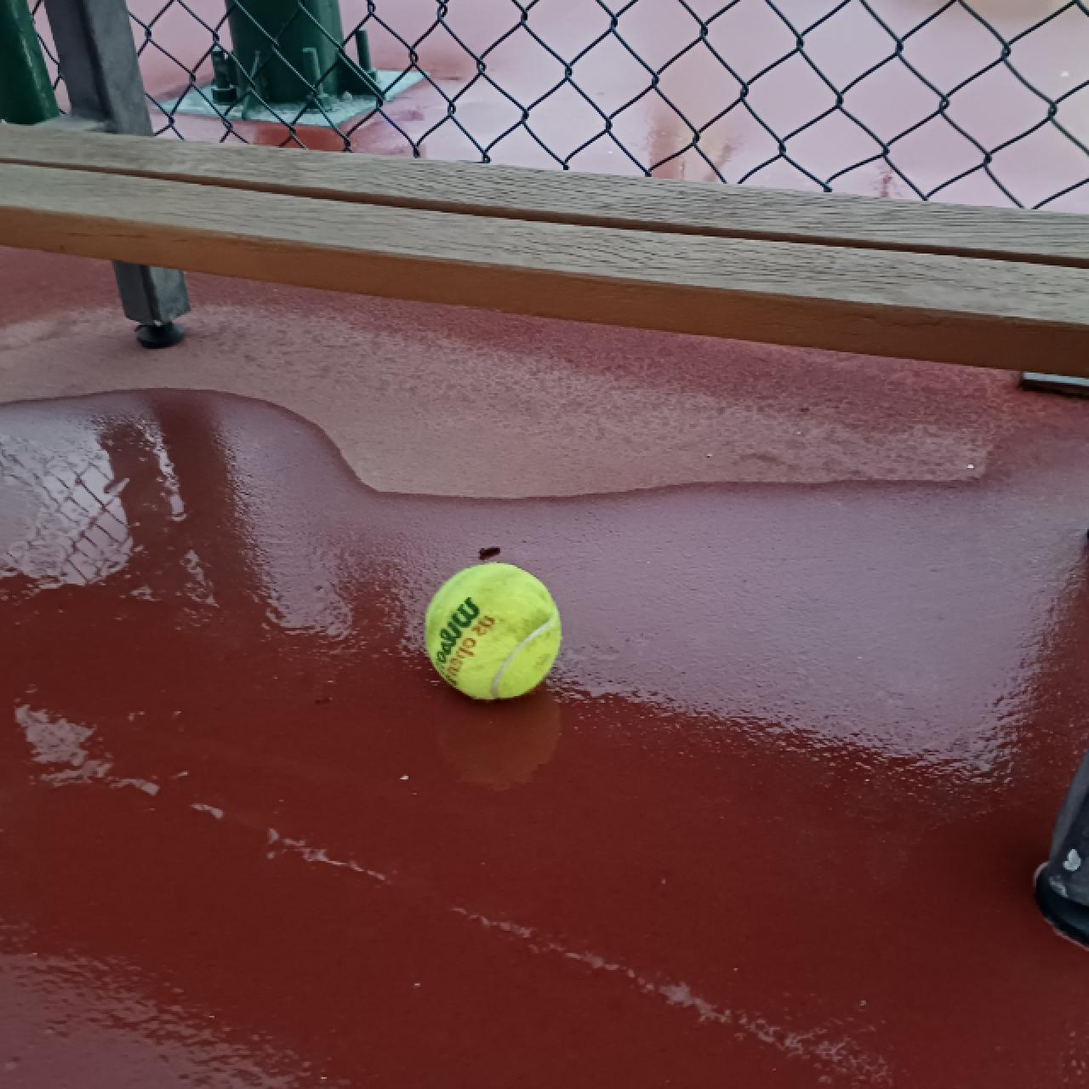tennis-ball: (424, 560, 562, 703)
